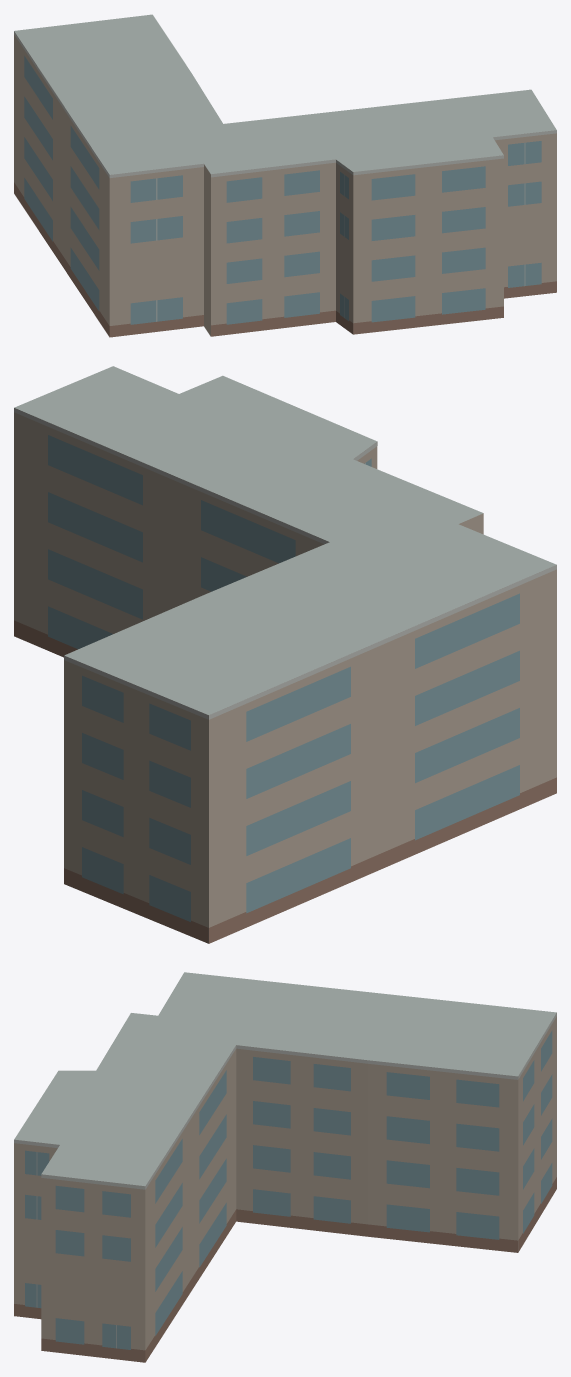
Rendered from residential-043f1a57-bed1-4f30-9137-298cd6132c5e.glb.
3 views of the same model, one above another, from view 1: azimuth 30°, elevation 25°; view 2: azimuth 150°, elevation 25°; view 3: azimuth 270°, elevation 25° (orthographic). The views are drawn at different scales.
Parts seen in each view (by area): view 1: residential-043f1a57-bed1-4f30-9137-298cd6132c5e.tmp; view 2: residential-043f1a57-bed1-4f30-9137-298cd6132c5e.tmp; view 3: residential-043f1a57-bed1-4f30-9137-298cd6132c5e.tmp.
Part boxes in pixels (x1,y1,x2,y2): residential-043f1a57-bed1-4f30-9137-298cd6132c5e.tmp: (14, 14, 556, 337); residential-043f1a57-bed1-4f30-9137-298cd6132c5e.tmp: (14, 366, 556, 943); residential-043f1a57-bed1-4f30-9137-298cd6132c5e.tmp: (14, 972, 556, 1362).
Size of the model in its own units: 31.74 by 12.2 by 34.02.
